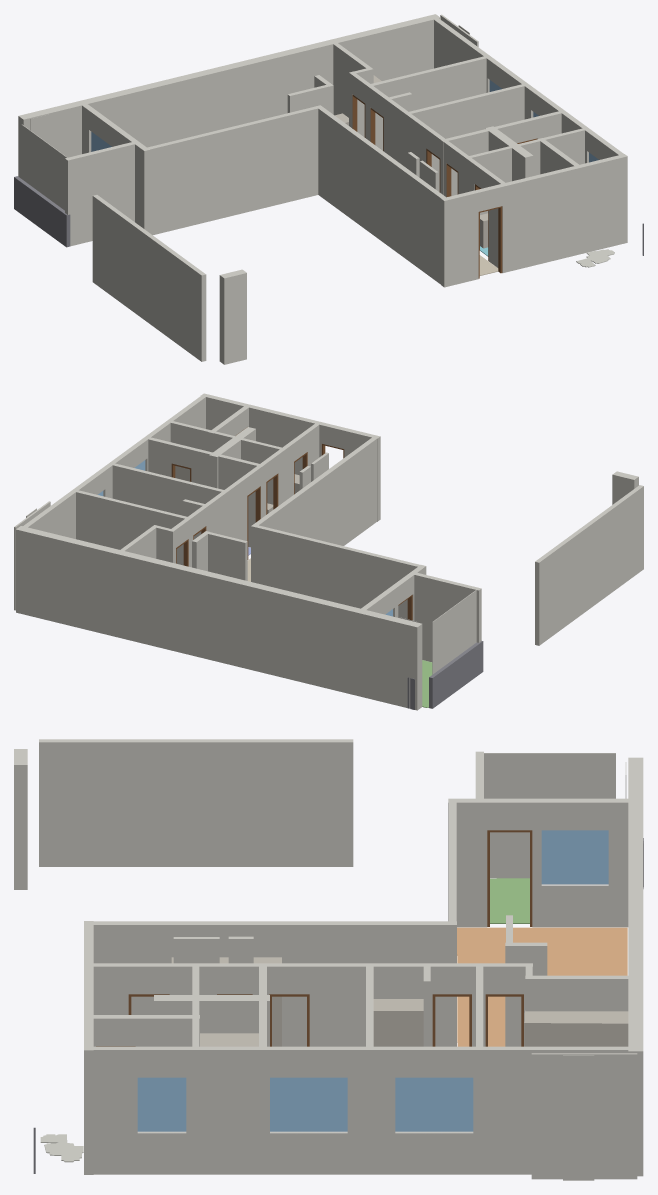
The picture shows the model from 3 angles, top to bottom: view 1: azimuth 30°, elevation 25°; view 2: azimuth 150°, elevation 25°; view 3: azimuth 270°, elevation 25°; orthographic projection. The views are drawn at different scales.
Parts seen in each view (by area): view 1: walls, railings, door_0; view 2: walls, railings; view 3: walls, floor_0_Living_Room, window_4, window_2, furniture_0_closet, window_1, window_12, furniture_1_closet, floor_10_Outdoor, furniture_3_closet, floor_11_Undefined, furniture_2_closet (+1 smaller).
Boxes of the visible parts, left/top/right/bottom form: walls: left=18, top=14, right=627, bottom=364; railings: left=14, top=176, right=643, bottom=255; door_0: left=478, top=206, right=502, bottom=278; walls: left=14, top=393, right=643, bottom=710; railings: left=407, top=641, right=483, bottom=709; walls: left=14, top=739, right=643, bottom=1180; floor_0_Living_Room: left=457, top=927, right=627, bottom=1046; window_4: left=395, top=1077, right=473, bottom=1131; window_2: left=270, top=1077, right=347, bottom=1131; furniture_0_closet: left=524, top=1010, right=628, bottom=1046; window_1: left=541, top=830, right=608, bottom=884; window_12: left=137, top=1077, right=186, bottom=1131; furniture_1_closet: left=373, top=999, right=423, bottom=1046; floor_10_Outdoor: left=490, top=878, right=529, bottom=923; furniture_3_closet: left=200, top=1033, right=258, bottom=1046; floor_11_Undefined: left=40, top=1134, right=83, bottom=1162; furniture_2_closet: left=171, top=957, right=281, bottom=1046.
Bounding box in the file's own units: 14.7 × 2.72 × 12.36.
